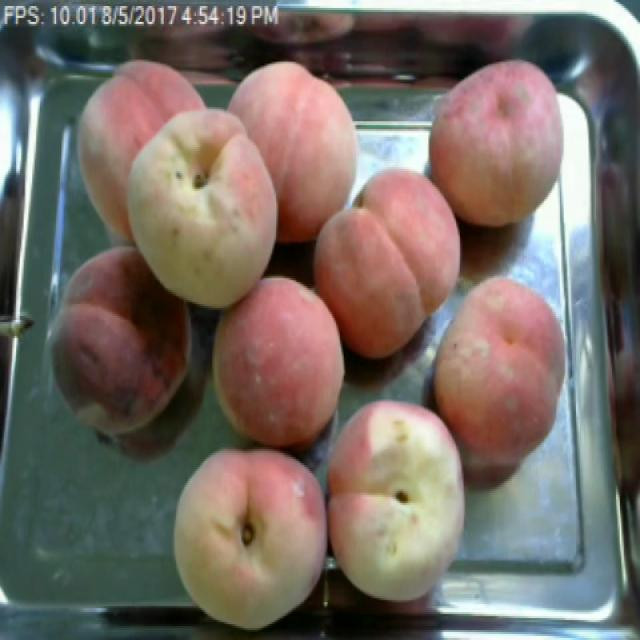Fruit: (114, 95, 290, 320), (31, 235, 205, 453), (419, 266, 581, 497), (300, 157, 473, 370), (325, 384, 480, 610), (160, 431, 329, 638), (200, 266, 361, 465), (217, 50, 372, 252), (420, 45, 580, 236)
